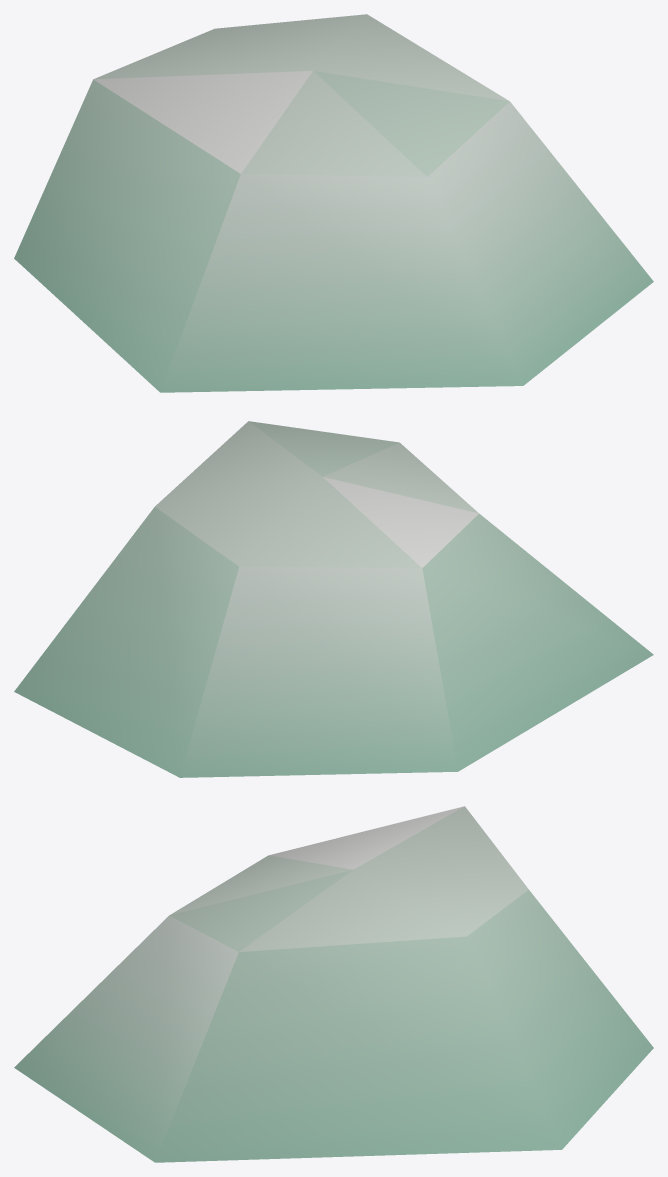
The model's file is snowdrop_patch_b_far.glb.
3 views of the same model, one above another, from view 1: azimuth 30°, elevation 25°; view 2: azimuth 150°, elevation 25°; view 3: azimuth 270°, elevation 25° (orthographic). The views are drawn at different scales.
Parts seen in each view (by area): view 1: soft; view 2: soft; view 3: soft.
Boxes of the visible parts, x1,y1,x2,y2 form: soft: [14, 14, 653, 392]; soft: [14, 421, 653, 777]; soft: [14, 806, 653, 1162].
Bounding box in the file's own units: 0.4264 × 0.162 × 0.513.
